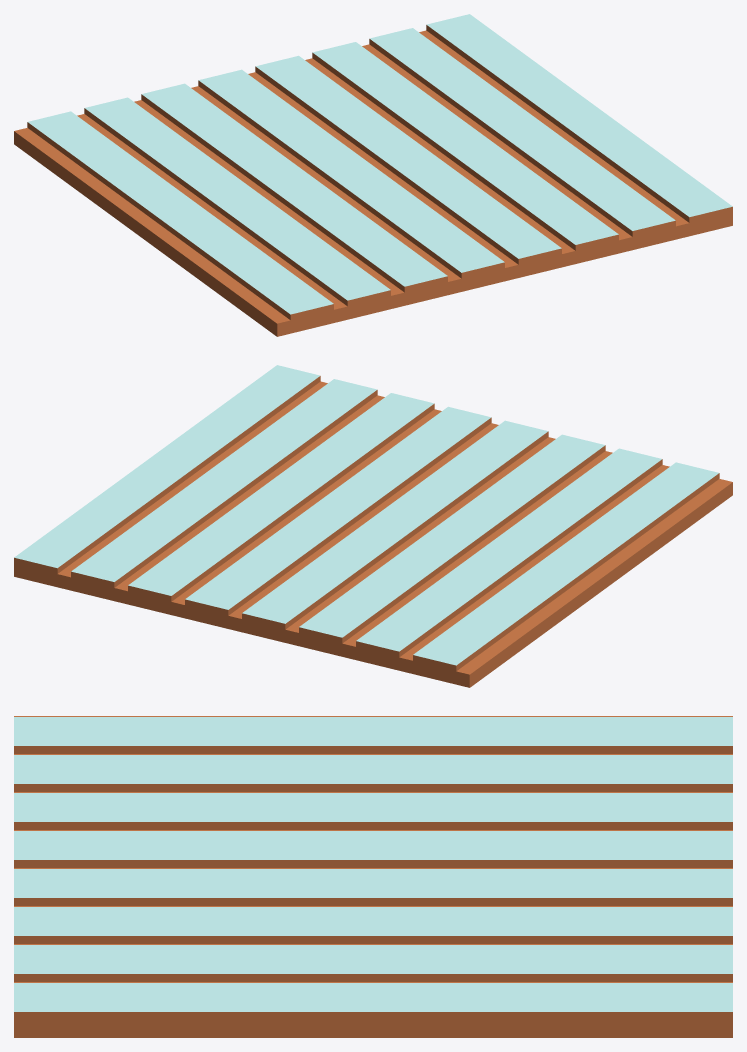
Rendered from cabinRoofFlat.fbx.
The picture shows the model from 3 angles, top to bottom: view 1: azimuth 30°, elevation 25°; view 2: azimuth 150°, elevation 25°; view 3: azimuth 270°, elevation 25°; orthographic projection. The views are drawn at different scales.
Parts seen in each view (by area): view 1: cabinRoofFlat; view 2: cabinRoofFlat; view 3: cabinRoofFlat.
Part boxes in pixels (x1,y1,x2,y2): cabinRoofFlat: [14, 14, 732, 336]; cabinRoofFlat: [14, 365, 732, 687]; cabinRoofFlat: [14, 716, 732, 1037].
Bounding box in the file's own units: 10 × 0.4 × 10.
